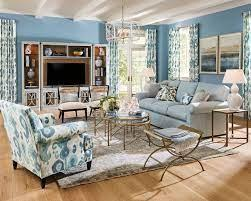TV: (46, 64, 86, 85)
chair: (0, 99, 91, 190), (58, 85, 90, 121), (88, 83, 113, 115)
console: (21, 85, 105, 107)
door: (130, 45, 149, 95), (117, 46, 131, 95)
light: (104, 5, 144, 46), (221, 65, 247, 110)
sofa: (131, 78, 226, 135)
table: (141, 127, 207, 178), (107, 112, 153, 154), (211, 107, 249, 148), (90, 107, 118, 139)
